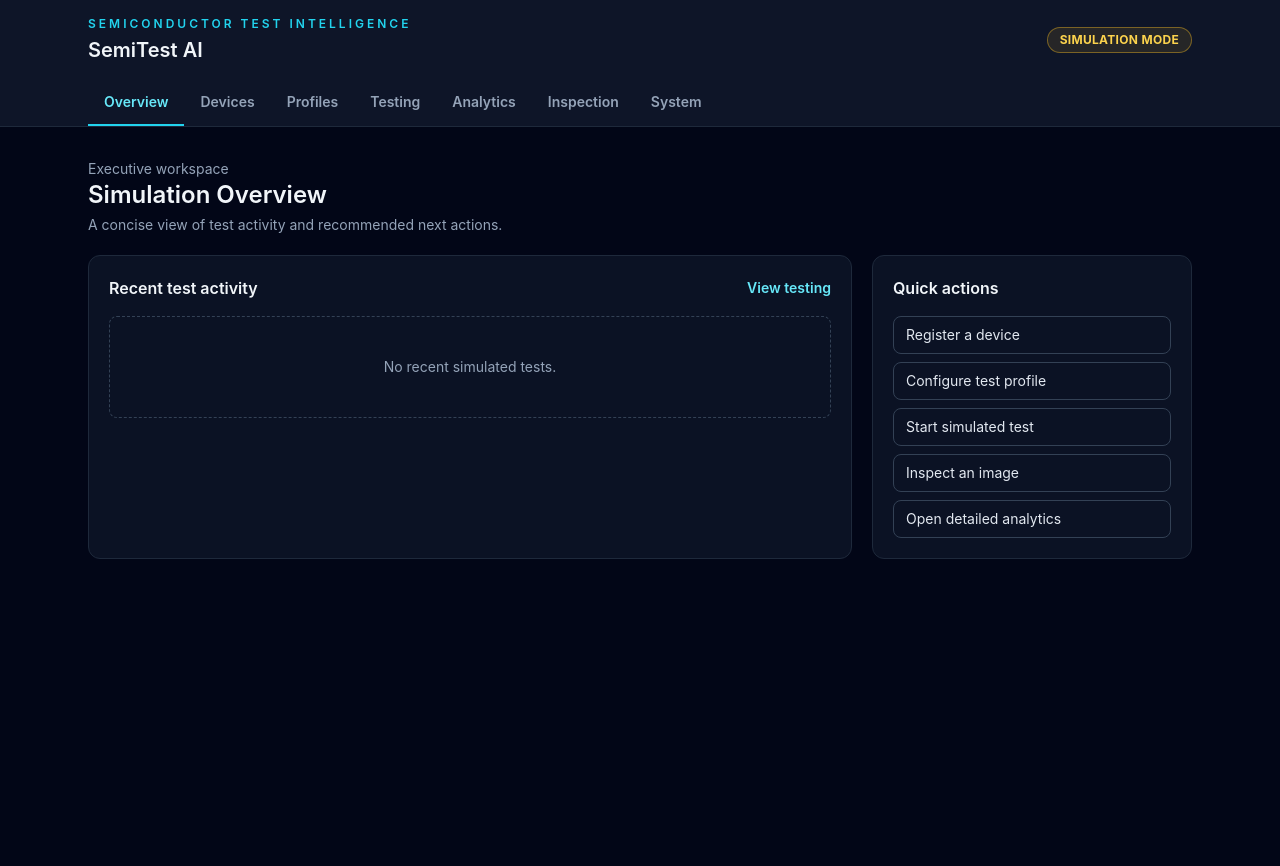
Test: Phase 1 device application shell › shows the simulation mode, backend status, and device data
Expected: the text "SIMULATION MODE" is shown, [1047, 27, 1192, 53]
Expected: the heading "Simulation Overview" is shown, [88, 180, 327, 209]
Click the tab "Devices".
click(228, 103)  # box [184, 80, 271, 126]
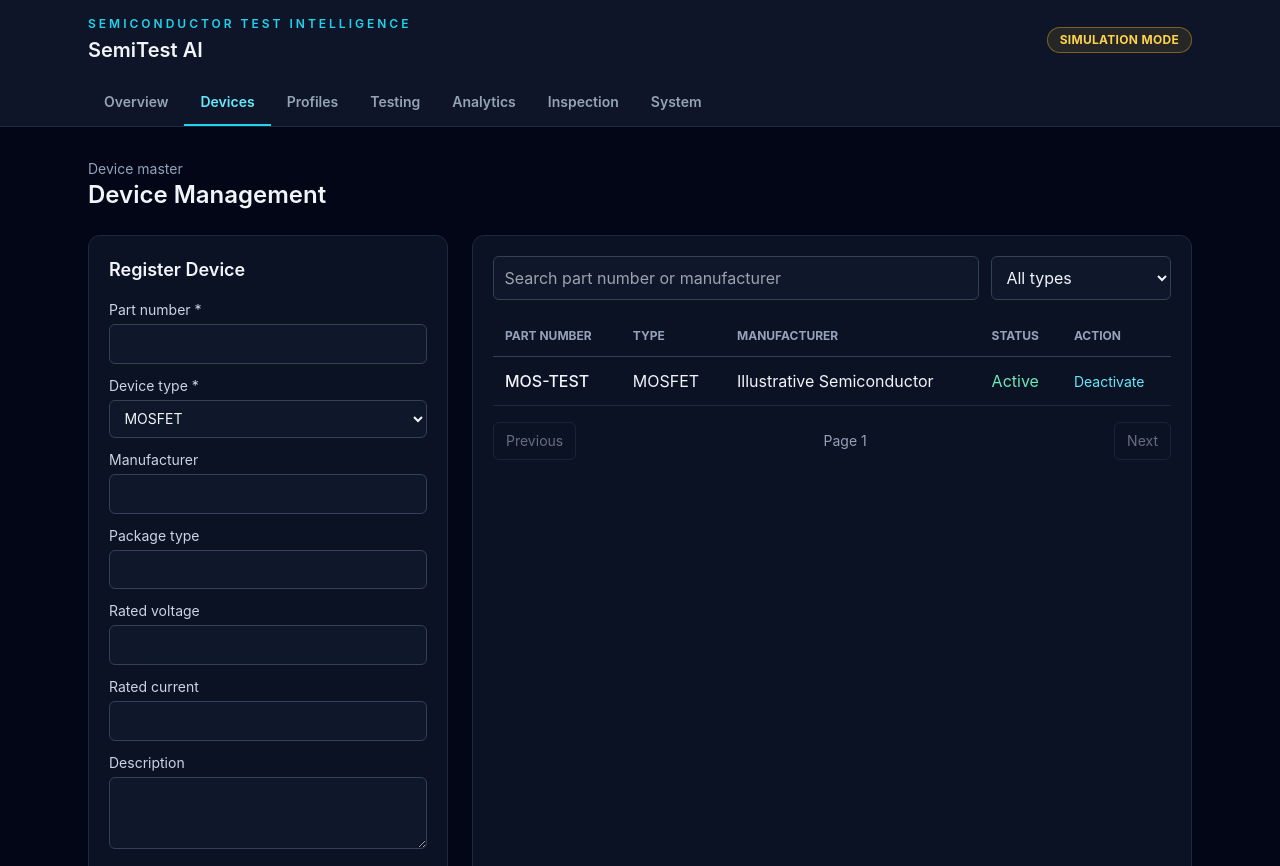
Now the text "MOS-TEST" is shown, box [493, 356, 621, 405]
Click the tab "Profiles".
click(312, 103)  # box [271, 80, 354, 126]
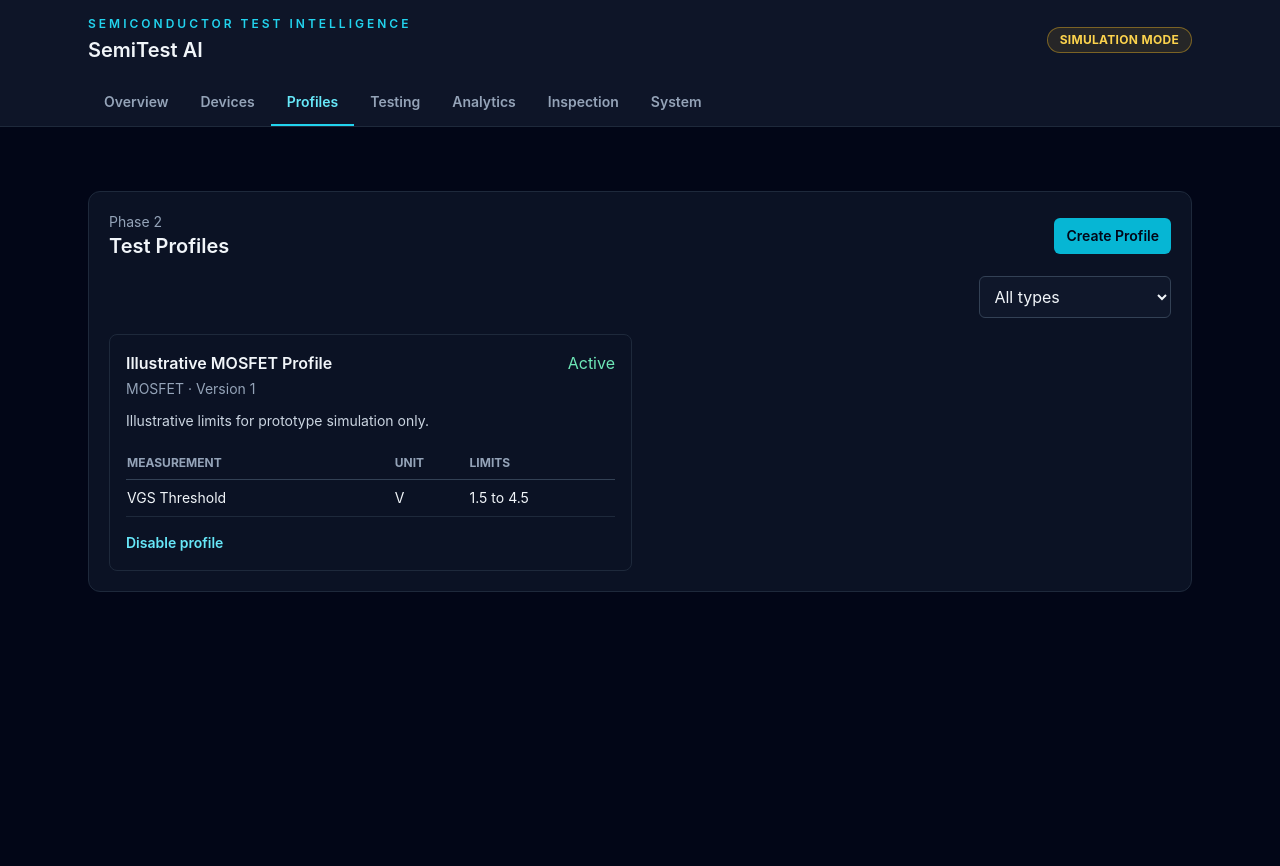
Now the heading "Illustrative MOSFET Profile" is shown, box [126, 351, 332, 375]
Click the tab "Analytics".
click(484, 103)  # box [436, 80, 532, 126]
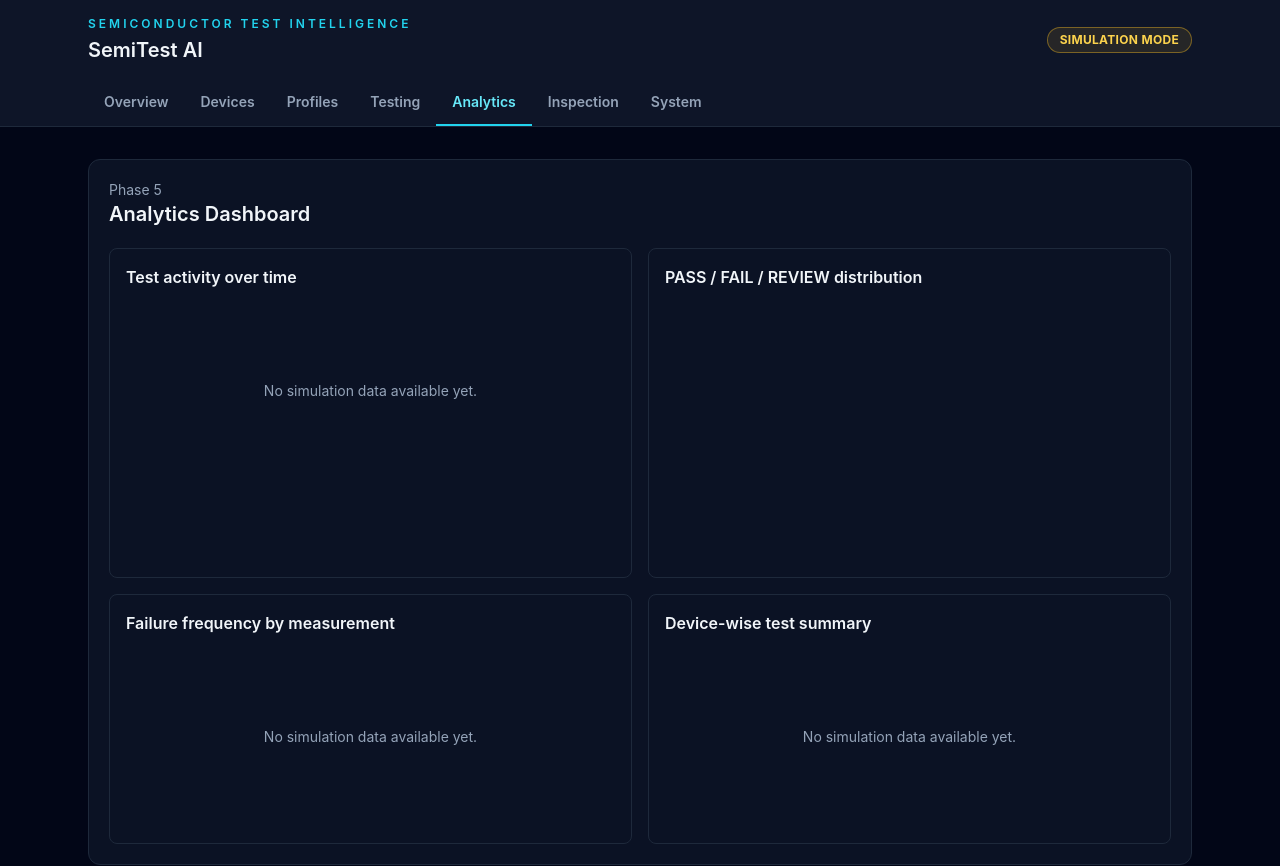
Now the heading "Analytics Dashboard" is shown, box [109, 202, 310, 226]
Click the tab "System".
click(676, 103)  # box [635, 80, 718, 126]
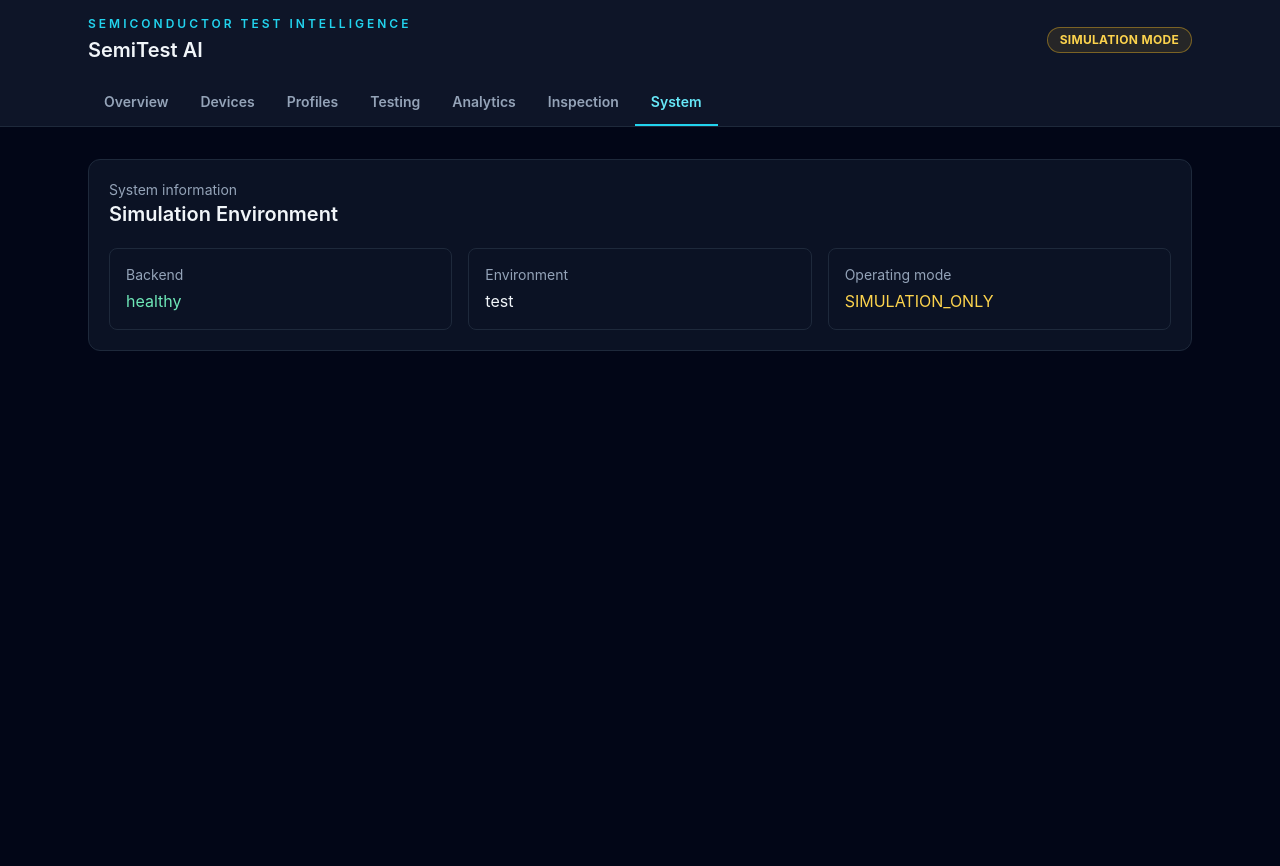
Now the text "SIMULATION_ONLY" is shown, box [845, 291, 994, 311]
